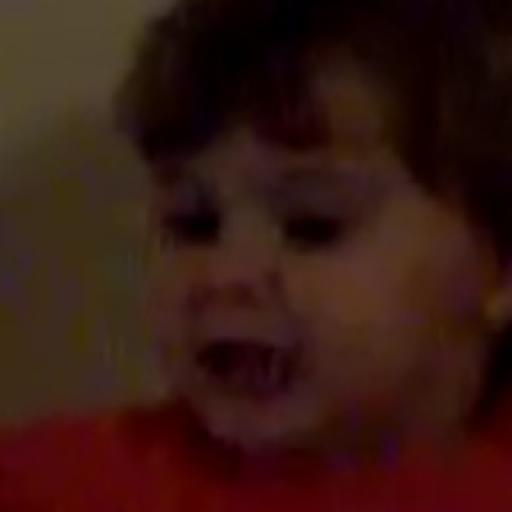Autism: (80, 25, 512, 487)
